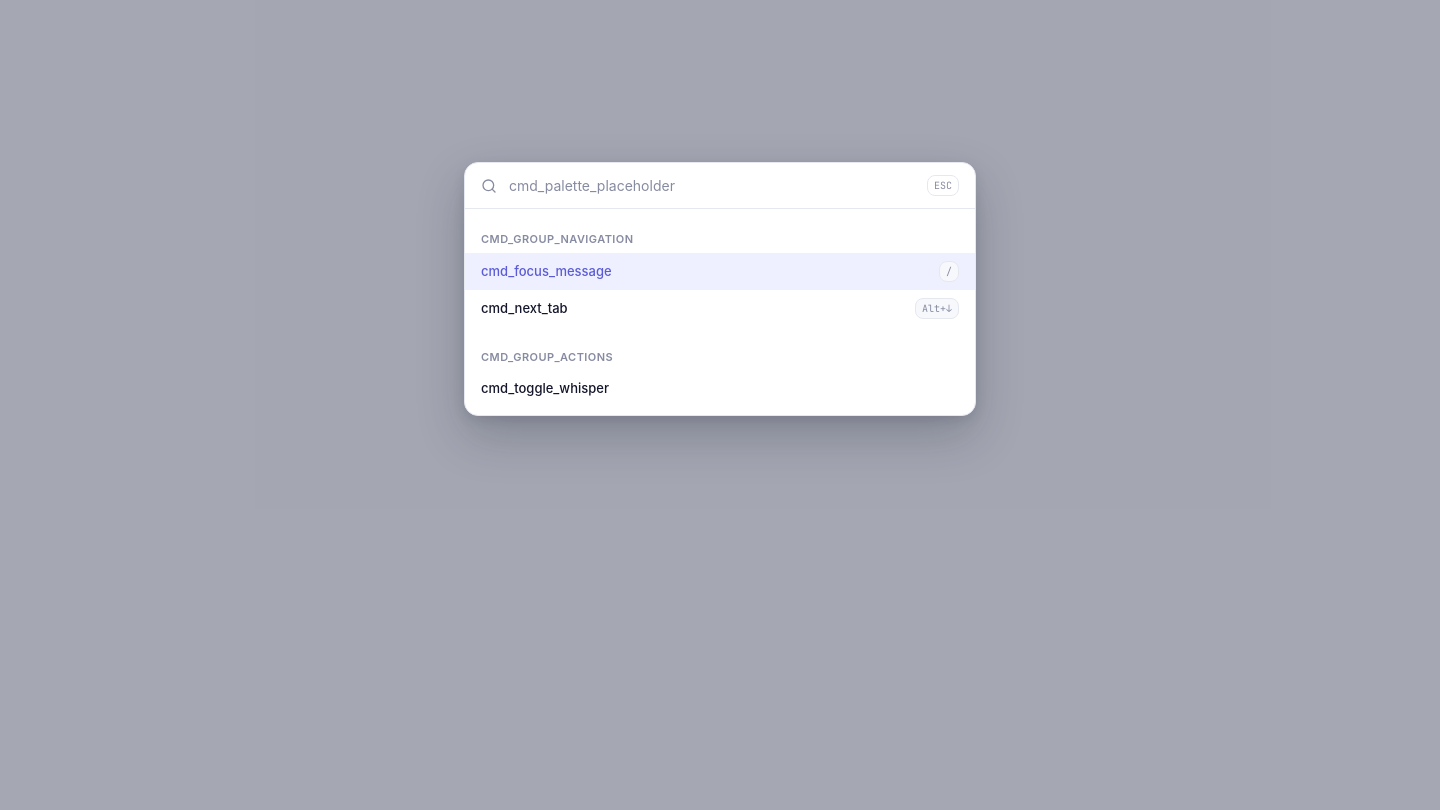
Test: CommandPalette › filters commands by search query
Type "whisper" into the field with placeholder "cmd_palette_placeholder".
click(712, 186); type("whisper")  # box [509,175,915,196]
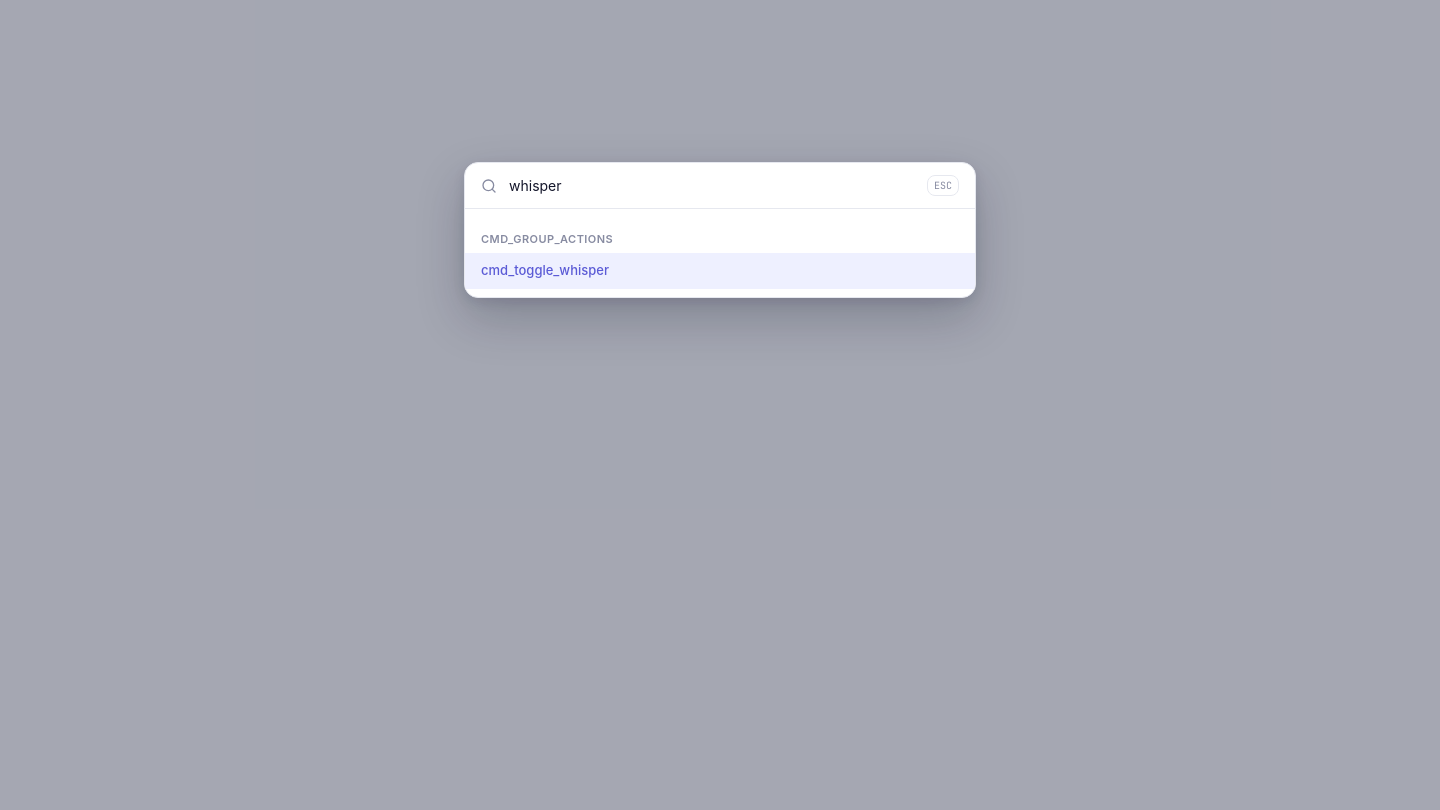
Expected: the text "cmd_toggle_whisper" is shown, [481,261,609,280]
Expected: the button "cmd_focus_message" is gone
Expected: the button "cmd_next_tab" is gone
